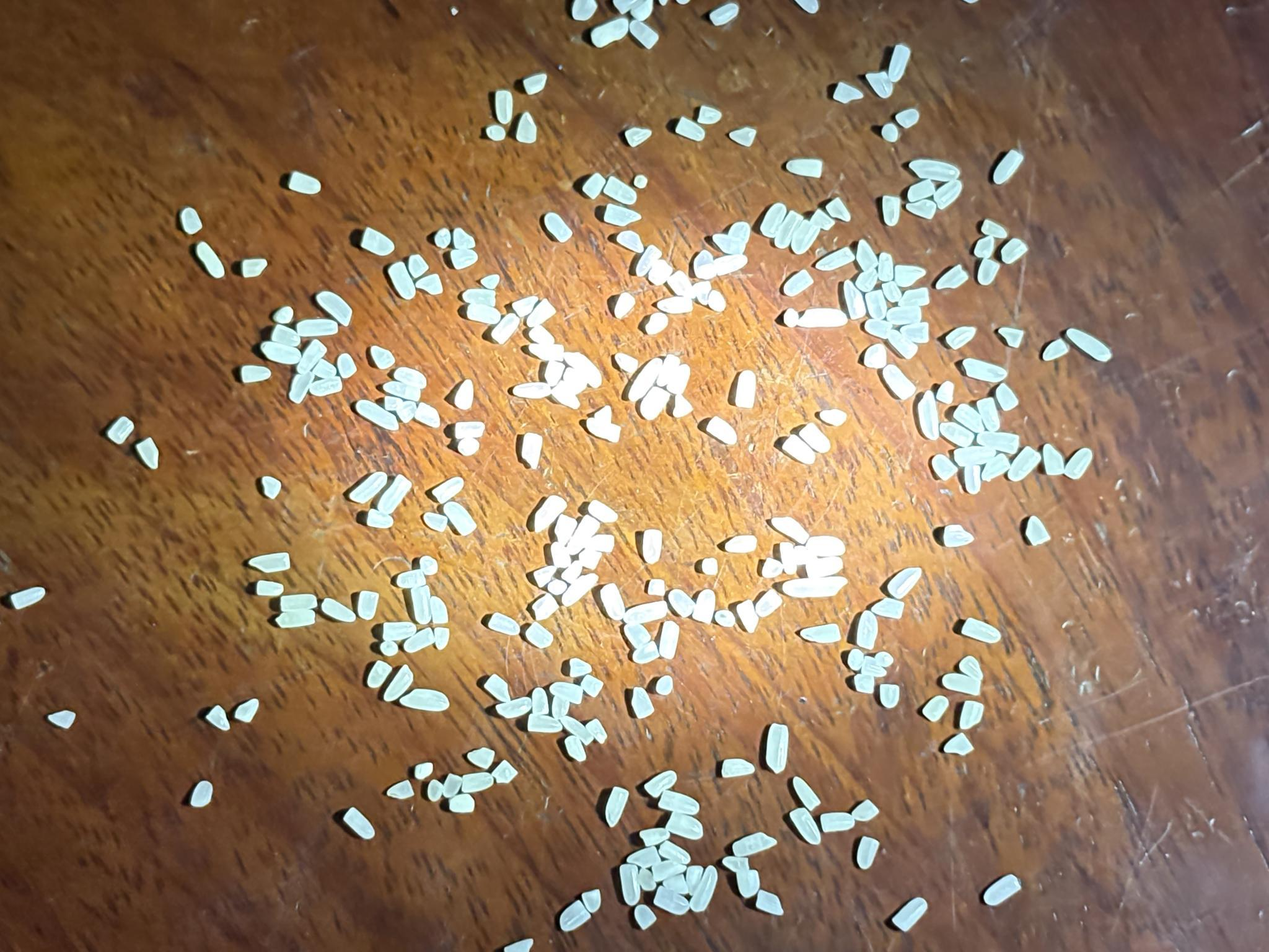Rice-th-y-nh: (782, 567, 848, 608), (1065, 322, 1112, 368), (908, 150, 960, 189), (758, 721, 795, 775), (400, 681, 450, 720), (626, 354, 664, 405), (354, 394, 399, 437), (685, 864, 722, 916), (797, 299, 849, 336), (562, 347, 605, 390), (622, 593, 669, 632), (962, 350, 1007, 390), (731, 826, 777, 865), (912, 390, 946, 442), (529, 491, 568, 536), (315, 286, 355, 329), (376, 472, 414, 517), (564, 512, 602, 557), (425, 595, 454, 653), (982, 869, 1022, 911), (560, 568, 599, 611), (881, 361, 919, 405), (960, 611, 1002, 650), (657, 784, 700, 822), (348, 467, 389, 506), (891, 893, 929, 935), (788, 804, 824, 848), (442, 497, 478, 540), (652, 881, 691, 920), (886, 563, 924, 603), (815, 240, 855, 278), (600, 784, 633, 830), (614, 862, 647, 908), (1006, 443, 1042, 485), (941, 666, 983, 702), (381, 662, 416, 705), (953, 438, 997, 472), (976, 425, 1021, 458), (260, 334, 301, 370), (385, 259, 420, 301), (665, 808, 704, 845), (804, 549, 845, 584), (637, 382, 671, 424), (596, 581, 630, 623), (804, 529, 846, 563), (248, 546, 292, 578), (359, 223, 396, 261), (990, 147, 1025, 187), (294, 336, 328, 377), (800, 617, 842, 650), (769, 513, 811, 546), (883, 42, 915, 85), (852, 609, 884, 652), (342, 804, 377, 843), (838, 279, 869, 323), (295, 312, 339, 343), (590, 15, 630, 49), (730, 368, 761, 411), (884, 325, 920, 362), (585, 412, 622, 448), (643, 765, 678, 803), (790, 774, 823, 814), (772, 209, 805, 249), (602, 198, 642, 231), (654, 619, 685, 661), (320, 593, 357, 628), (495, 691, 533, 725), (407, 583, 437, 626), (194, 240, 227, 279), (276, 604, 317, 635), (939, 417, 975, 452), (431, 472, 466, 508), (602, 174, 639, 208), (559, 713, 596, 747), (786, 151, 824, 184), (973, 395, 1005, 434), (781, 265, 815, 301), (486, 607, 522, 641), (757, 201, 789, 239), (1062, 445, 1094, 483), (512, 376, 552, 406), (952, 402, 987, 436), (781, 433, 817, 466), (711, 228, 748, 260), (689, 587, 720, 625), (380, 615, 418, 646), (1038, 441, 1069, 479), (279, 587, 318, 617), (798, 421, 832, 455), (944, 320, 978, 354), (753, 885, 786, 920), (932, 176, 964, 212), (523, 618, 555, 654), (518, 431, 547, 470), (637, 527, 666, 566), (863, 67, 896, 101), (713, 248, 748, 280), (871, 593, 906, 625), (956, 697, 987, 733), (353, 587, 384, 623), (490, 311, 521, 347), (626, 842, 662, 873), (1022, 513, 1053, 549), (526, 709, 563, 739), (657, 290, 695, 319), (464, 300, 502, 329), (773, 539, 801, 578), (527, 339, 566, 367), (403, 624, 436, 657), (541, 211, 574, 244), (665, 268, 698, 301), (481, 672, 515, 704), (705, 415, 739, 447), (753, 586, 784, 621), (666, 585, 697, 620), (980, 450, 1011, 485), (549, 677, 585, 707), (382, 377, 422, 404), (308, 372, 344, 402), (664, 362, 694, 398), (733, 598, 762, 635), (853, 834, 882, 871), (287, 368, 316, 405), (628, 685, 657, 722), (884, 301, 922, 329), (648, 857, 686, 885), (893, 259, 926, 291), (721, 753, 755, 784), (791, 223, 822, 257), (621, 618, 652, 652), (920, 691, 951, 725), (557, 898, 588, 932), (551, 378, 582, 412), (724, 529, 759, 559), (551, 512, 580, 548), (531, 589, 560, 625), (512, 110, 541, 146), (392, 363, 428, 392), (943, 729, 976, 760), (461, 767, 495, 797), (899, 318, 933, 348), (658, 839, 693, 868), (852, 238, 881, 273), (934, 263, 969, 292), (634, 243, 662, 279), (462, 282, 498, 310), (628, 19, 660, 50), (832, 77, 864, 108), (929, 451, 959, 484), (941, 523, 974, 553), (491, 88, 517, 126), (820, 806, 854, 835), (451, 378, 480, 412), (898, 283, 932, 312), (655, 352, 682, 388), (525, 298, 556, 329), (270, 321, 302, 351), (394, 565, 427, 594), (905, 195, 938, 224), (414, 399, 443, 432), (560, 364, 589, 397), (993, 381, 1021, 415), (878, 193, 905, 228), (906, 175, 936, 206), (1041, 335, 1071, 366), (466, 743, 497, 773), (999, 236, 1029, 267), (368, 342, 397, 374), (957, 653, 986, 685), (646, 256, 675, 288), (862, 288, 890, 321), (862, 340, 890, 373), (365, 658, 393, 691), (586, 498, 619, 526), (584, 530, 617, 558), (690, 249, 717, 283), (187, 778, 216, 809), (807, 205, 836, 236), (638, 822, 670, 850), (674, 115, 707, 142), (737, 867, 764, 900), (726, 218, 753, 251), (9, 586, 46, 610), (453, 417, 487, 443), (287, 170, 321, 196), (615, 228, 645, 257), (850, 796, 880, 825), (490, 757, 519, 787), (863, 314, 894, 342), (425, 595, 453, 626), (632, 901, 659, 933), (975, 256, 1002, 288), (561, 732, 588, 764), (239, 360, 271, 387), (134, 437, 161, 469), (611, 289, 637, 322), (681, 862, 706, 896), (365, 505, 394, 534), (511, 291, 540, 320), (447, 789, 477, 817), (415, 270, 445, 298), (404, 251, 432, 281), (728, 122, 758, 150), (547, 540, 574, 571), (310, 355, 339, 383), (824, 196, 853, 224), (449, 245, 478, 273), (386, 776, 415, 804), (233, 696, 261, 725), (239, 253, 268, 281), (623, 122, 652, 150), (853, 266, 880, 296), (631, 641, 661, 668), (333, 351, 360, 381), (521, 69, 548, 99), (721, 852, 752, 878), (428, 620, 454, 651), (581, 170, 607, 201), (873, 251, 898, 283), (960, 464, 985, 496), (568, 0, 601, 24), (106, 416, 134, 444), (527, 323, 556, 350), (877, 681, 903, 711), (584, 716, 610, 746), (819, 404, 849, 430), (542, 358, 567, 389), (759, 553, 786, 581), (578, 671, 605, 699), (998, 322, 1025, 350), (643, 310, 670, 338), (894, 104, 921, 132), (204, 704, 231, 732), (979, 217, 1008, 243), (527, 686, 551, 717), (709, 3, 740, 27), (879, 278, 905, 306), (790, 542, 816, 570), (393, 397, 419, 425), (579, 886, 604, 915), (663, 872, 692, 897), (670, 392, 695, 421), (179, 206, 204, 235), (577, 546, 604, 572), (532, 562, 558, 589), (450, 226, 477, 252), (422, 509, 449, 535), (695, 102, 722, 128), (561, 558, 586, 586), (971, 234, 996, 262), (255, 577, 284, 601), (567, 655, 593, 681), (614, 350, 640, 376), (441, 771, 464, 800), (852, 670, 876, 697), (935, 379, 958, 407), (549, 694, 572, 722), (260, 474, 284, 500), (653, 672, 676, 699), (690, 278, 713, 305), (456, 434, 481, 458), (46, 709, 76, 729), (635, 867, 658, 893), (630, 0, 656, 23), (500, 935, 535, 952), (705, 288, 728, 313), (417, 553, 440, 578), (425, 778, 447, 804), (610, 0, 648, 15), (592, 403, 615, 427), (880, 120, 902, 145), (713, 606, 736, 629), (546, 575, 569, 598), (484, 121, 507, 144), (860, 661, 886, 681), (646, 576, 668, 599), (272, 305, 295, 327), (433, 226, 454, 250), (413, 759, 434, 783), (845, 647, 865, 672), (480, 270, 502, 292), (700, 555, 721, 578), (781, 306, 801, 329), (873, 649, 894, 670), (379, 638, 399, 659), (792, 0, 821, 14), (632, 171, 649, 191), (652, 0, 684, 7), (674, 0, 694, 6)
